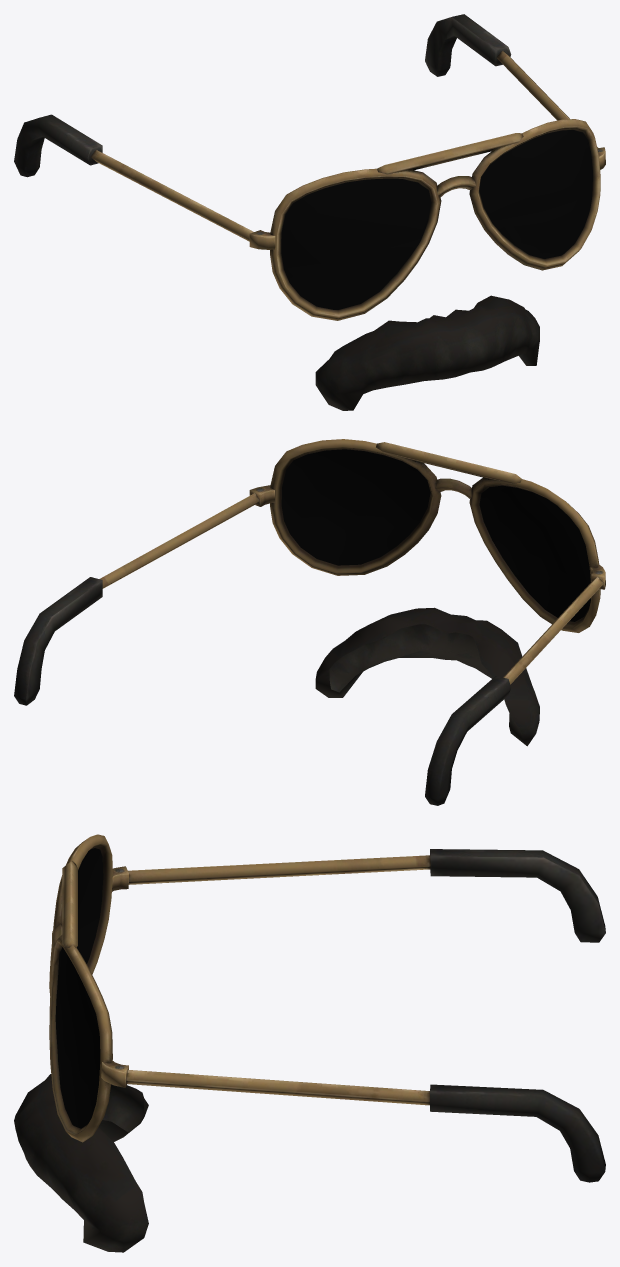
The model's file is jul13_macho_mann_glasses_engineer.glb.
The picture shows the model from 3 angles, top to bottom: view 1: azimuth 30°, elevation 25°; view 2: azimuth 150°, elevation 25°; view 3: azimuth 270°, elevation 25°; orthographic projection. The views are drawn at different scales.
Parts seen in each view (by area): view 1: Object_2; view 2: Object_2; view 3: Object_2.
Part boxes in pixels (x1=…): Object_2: x1=14, y1=14, x2=605, y2=410; Object_2: x1=14, y1=439, x2=605, y2=805; Object_2: x1=14, y1=834, x2=605, y2=1252.
Size of the model in its own units: 0.143 by 0.0796 by 0.143.
1 material, 1 textured.
